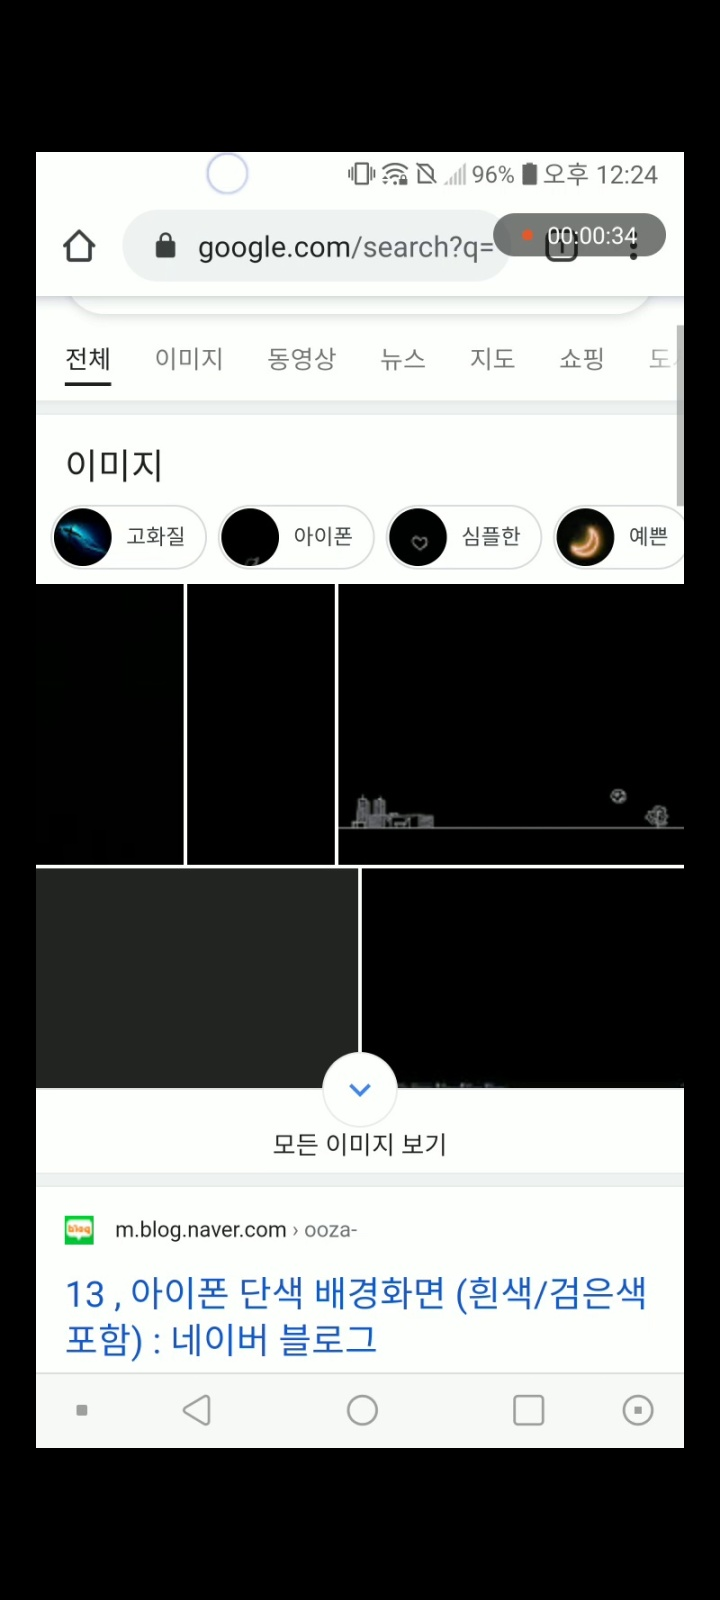Cursor: (205, 153, 250, 197)
